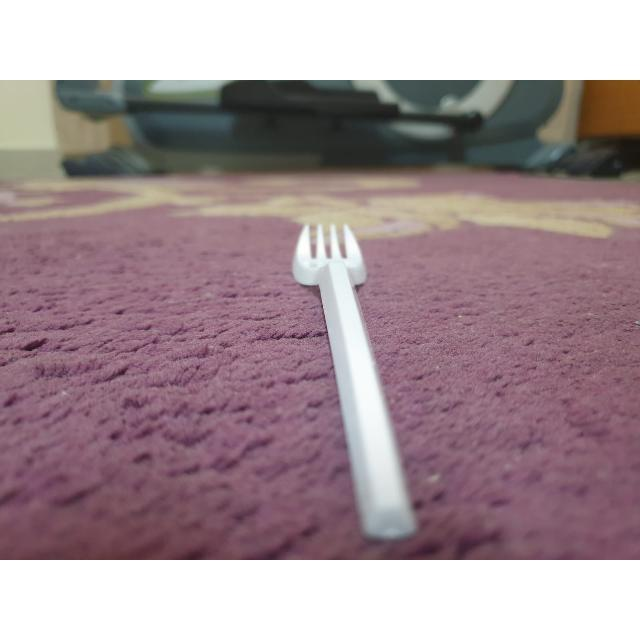Plastico descartable: (294, 225, 416, 539)
